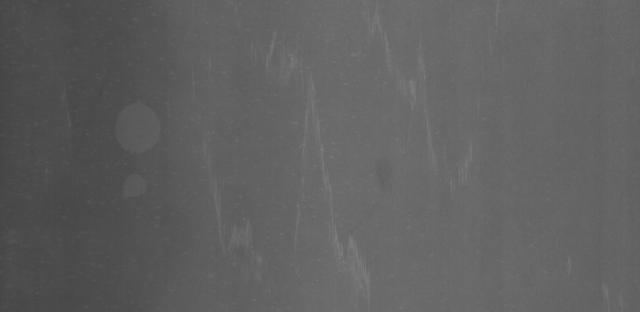oil_spot: (105, 87, 168, 160), (100, 165, 160, 214)
silk_spot: (262, 41, 378, 293), (350, 11, 453, 124), (190, 164, 270, 278), (392, 110, 481, 205)
